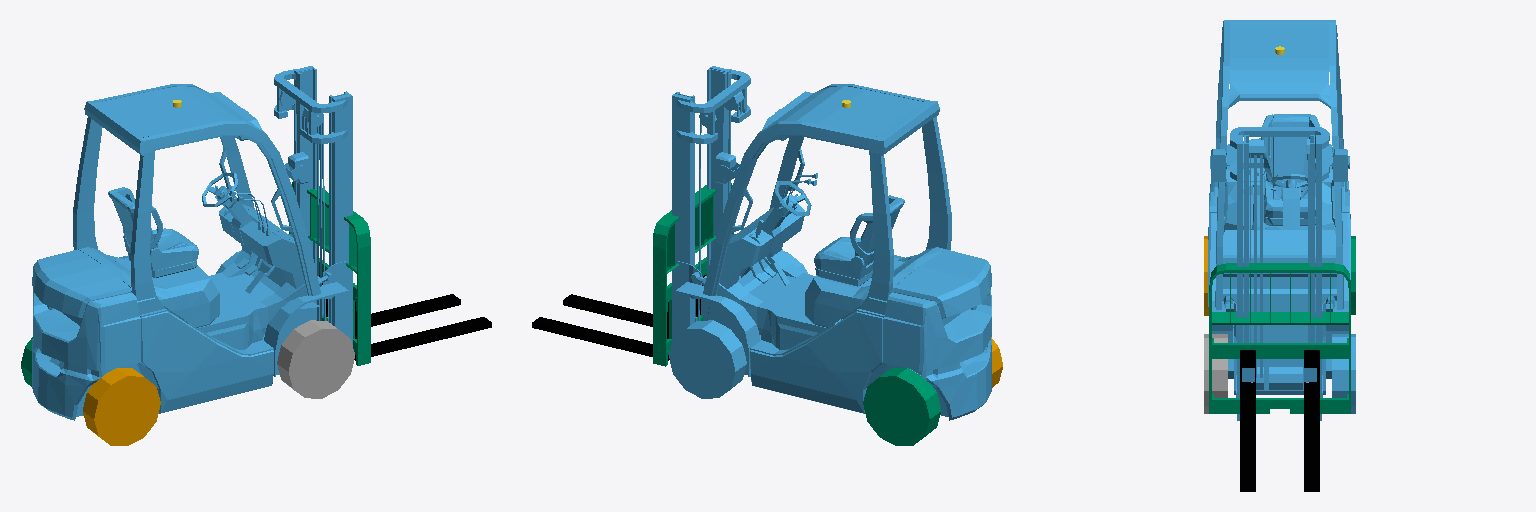
The robot description file, URDF, robot "forklift":
<?xml version="1.0" ?>
<!-- =================================================================================== -->
<!-- |    This document was autogenerated by xacro from robot.urdf.xacro               | -->
<!-- |    EDITING THIS FILE BY HAND IS NOT RECOMMENDED                                 | -->
<!-- =================================================================================== -->
<robot name="forklift">
  <!-- Specify some standard inertial calculations
    https://en.wikipedia.org/wiki/List_of_moments_of_inertia -->
  <!-- These make use of xacro's mathematical functionality -->
  <!-- Specify some standard inertial calculations
    https://en.wikipedia.org/wiki/List_of_moments_of_inertia -->
  <!-- These make use of xacro's mathematical functionality -->
  <material name="white">
    <color rgba="1 1 1 1"/>
  </material>
  <!-- BASE LINK -->
  <material name="darkgray">
    <color rgba="0.01 0.01 0.01 1"/>
  </material>
  <!--See: https://github.com/ros-navigation/navigation2_tutorials/blob/rolling/sam_bot_description/src/description/sam_bot_description.urdf -->
  <!--From nav2 docs: 
  "We will also be using the box_inertia macro we defined before to add some inertial properties 
  to our base_link. The kdl_parser package used in robot_state_publisher
  doesn’t like inertial properties being specified in the root link, 
  in this case the base_link, to combat this we will be including them in the base_footprint instead.
  Include the following code snippet within <link name="base_footprint"> tag of base_footprint in our URDF." 
  -->
  <link name="base_footprint">
    <inertial>
      <origin rpy="0 0 0" xyz="-0.1 0 0.6"/>
      <mass value="50"/>
      <inertia ixx="20.00427083333333" ixy="0.0" ixz="0.0" iyy="38.517083333333325" iyz="0.0" izz="25.188020833333333"/>
    </inertial>
  </link>
  <joint name="base_link_joint" type="fixed">
    <parent link="base_link"/>
    <child link="base_footprint"/>
    <!--Set the base_footprint down to wheel axis level + half the wheel radius to be exactly at the bottom-->
    <origin rpy="0 0 0" xyz="0 0 -0.6"/>
  </joint>
  <link name="base_link">
    <visual>
      <origin xyz="0 0 0"/>
      <geometry>
        <mesh filename="package://forklift_controller/models/forklift/meshes/body_correct_scale.dae"/>
      </geometry>
    </visual>
    <collision>
      <origin xyz="0 0 0"/>
      <geometry>
        <mesh filename="package://forklift_controller/models/forklift/meshes/body_correct_scale.dae"/>
      </geometry>
    </collision>
  </link>
  <link name="fork_plate">
    <visual>
      <origin rpy="0 0 0" xyz="0 0 0"/>
      <geometry>
        <mesh filename="package://forklift_controller/models/forklift/meshes/fork_plate_correct_scale.dae" scale="1 1 0.77"/>
      </geometry>
    </visual>
    <collision>
      <origin rpy="0 0 0" xyz="0 0 0"/>
      <geometry>
        <box size="0.1 0.885 1.29"/>
      </geometry>
    </collision>
    <inertial>
      <origin rpy="0 0 0" xyz="0 0 0"/>
      <mass value="50"/>
      <inertia ixx="10.1971875" ixy="0.0" ixz="0.0" iyy="6.975416666666666" iyz="0.0" izz="3.3051041666666663"/>
    </inertial>
  </link>
  <joint name="fork_plate_joint" type="prismatic">
    <parent link="base_link"/>
    <child link="fork_plate"/>
    <origin rpy="0 0 0" xyz="1.15 0 0.09"/>
    <axis xyz="0 0 1"/>
    <limit effort="2500" lower="0.0" upper="5.0" velocity="0.5"/>
  </joint>
  <!-- Specify some standard inertial calculations
    https://en.wikipedia.org/wiki/List_of_moments_of_inertia -->
  <!-- These make use of xacro's mathematical functionality -->
  <!--
    Dimensions are defined when viewing link from the front:
      height is up
      length is forward (towards you)
      width is sideways (left/right)
    -->
  <link name="fork_1_attach">
    <visual>
      <origin rpy="1.5707963267948966 1.5707963267948966 0" xyz="0 0 0"/>
      <geometry>
        <box size="0.5 0.025 0.1"/>
      </geometry>
      <material name="darkgray"/>
    </visual>
    <collision>
      <origin rpy="1.5707963267948966 1.5707963267948966 0" xyz="0 0 0"/>
      <geometry>
        <box size="0.5 0.025 0.1"/>
      </geometry>
    </collision>
    <inertial>
      <origin rpy="0 0 0" xyz="0 0 0"/>
      <mass value="7.5"/>
      <inertia ixx="0.0066406250000000016" ixy="0.0" ixz="0.0" iyy="0.1625" iyz="0.0" izz="0.15664062499999998"/>
    </inertial>
  </link>
  <link name="fork_1">
    <visual>
      <origin rpy="0 0 0" xyz="0 0 0"/>
      <geometry>
        <box size="1.0 0.1 0.04"/>
      </geometry>
      <material name="darkgray"/>
    </visual>
    <collision>
      <origin rpy="0 0 0" xyz="0 0 0"/>
      <geometry>
        <box size="1.0 0.1 0.04"/>
      </geometry>
    </collision>
    <inertial>
      <origin rpy="0 0 0" xyz="0 0 0"/>
      <mass value="7.5"/>
      <inertia ixx="0.007250000000000001" ixy="0.0" ixz="0.0" iyy="0.626" iyz="0.0" izz="0.63125"/>
    </inertial>
  </link>
  <joint name="fork_attach_1_joint" type="fixed">
    <parent link="fork_plate"/>
    <child link="fork_1_attach"/>
    <origin rpy="0 0 0" xyz="0.05 0.2 -0.35"/>
  </joint>
  <joint name="fork_1_joint" type="fixed">
    <parent link="fork_1_attach"/>
    <child link="fork_1"/>
    <origin rpy="0 0 0" xyz="0.5 0 -0.23"/>
  </joint>
  <!-- https://osrf-migration.github.io/sdformat-gh-pages/#!/osrf/sdformat/issues/131/page/1-->
  <!--
    <gazebo reference="fork_{id}_joint">
        <disableFixedJointLumping>true</disableFixedJointLumping>
    </gazebo>

    <gazebo reference="fork_attach_${id}_joint">
        <disableFixedJointLumping>true</disableFixedJointLumping>
    </gazebo>
    -->
  <!-- Specify some standard inertial calculations
    https://en.wikipedia.org/wiki/List_of_moments_of_inertia -->
  <!-- These make use of xacro's mathematical functionality -->
  <!--
    Dimensions are defined when viewing link from the front:
      height is up
      length is forward (towards you)
      width is sideways (left/right)
    -->
  <link name="fork_2_attach">
    <visual>
      <origin rpy="1.5707963267948966 1.5707963267948966 0" xyz="0 0 0"/>
      <geometry>
        <box size="0.5 0.025 0.1"/>
      </geometry>
      <material name="darkgray"/>
    </visual>
    <collision>
      <origin rpy="1.5707963267948966 1.5707963267948966 0" xyz="0 0 0"/>
      <geometry>
        <box size="0.5 0.025 0.1"/>
      </geometry>
    </collision>
    <inertial>
      <origin rpy="0 0 0" xyz="0 0 0"/>
      <mass value="7.5"/>
      <inertia ixx="0.0066406250000000016" ixy="0.0" ixz="0.0" iyy="0.1625" iyz="0.0" izz="0.15664062499999998"/>
    </inertial>
  </link>
  <link name="fork_2">
    <visual>
      <origin rpy="0 0 0" xyz="0 0 0"/>
      <geometry>
        <box size="1.0 0.1 0.04"/>
      </geometry>
      <material name="darkgray"/>
    </visual>
    <collision>
      <origin rpy="0 0 0" xyz="0 0 0"/>
      <geometry>
        <box size="1.0 0.1 0.04"/>
      </geometry>
    </collision>
    <inertial>
      <origin rpy="0 0 0" xyz="0 0 0"/>
      <mass value="7.5"/>
      <inertia ixx="0.007250000000000001" ixy="0.0" ixz="0.0" iyy="0.626" iyz="0.0" izz="0.63125"/>
    </inertial>
  </link>
  <joint name="fork_attach_2_joint" type="fixed">
    <parent link="fork_plate"/>
    <child link="fork_2_attach"/>
    <origin rpy="0 0 0" xyz="0.05 -0.2 -0.35"/>
  </joint>
  <joint name="fork_2_joint" type="fixed">
    <parent link="fork_2_attach"/>
    <child link="fork_2"/>
    <origin rpy="0 0 0" xyz="0.5 0 -0.23"/>
  </joint>
  <!-- https://osrf-migration.github.io/sdformat-gh-pages/#!/osrf/sdformat/issues/131/page/1-->
  <!--
    <gazebo reference="fork_{id}_joint">
        <disableFixedJointLumping>true</disableFixedJointLumping>
    </gazebo>

    <gazebo reference="fork_attach_${id}_joint">
        <disableFixedJointLumping>true</disableFixedJointLumping>
    </gazebo>
    -->
  <joint name="right_wheel_joint" type="continuous">
    <parent link="base_link"/>
    <child link="right_wheel"/>
    <origin rpy="1.5707963267948966 0 0" xyz="0.8 -0.4 -0.35"/>
    <axis xyz="0 0 -1"/>
  </joint>
  <link name="right_wheel">
    <visual>
      <origin rpy="1.5707963267948966 0 0" xyz="0 0 0"/>
      <geometry>
        <!--The
        package resolves into install/forklift_controller/share/forklift_controller/-->
        <mesh filename="package://forklift_controller/models/forklift/meshes/wheel_correct_scale.dae"/>
      </geometry>
    </visual>
    <collision>
      <origin rpy="0 0 0" xyz="0 0 0"/>
      <geometry>
        <cylinder length="0.15" radius="0.25"/>
      </geometry>
    </collision>
    <inertial>
      <origin rpy="0 0 0" xyz="0 0 0"/>
      <mass value="5"/>
      <inertia ixx="0.0875" ixy="0.0" ixz="0.0" iyy="0.0875" iyz="0.0" izz="0.15625"/>
    </inertial>
  </link>
  <joint name="right_wheel_back_joint" type="continuous">
    <parent link="base_link"/>
    <child link="right_wheel_back"/>
    <origin rpy="1.5707963267948966 0 0" xyz="-0.65 -0.4 -0.35"/>
    <axis xyz="0 0 -1"/>
  </joint>
  <link name="right_wheel_back">
    <visual>
      <origin rpy="1.5707963267948966 0 0" xyz="0 0 0"/>
      <geometry>
        <!--The
        package resolves into install/forklift_controller/share/forklift_controller/-->
        <mesh filename="package://forklift_controller/models/forklift/meshes/wheel_correct_scale.dae"/>
      </geometry>
    </visual>
    <collision>
      <origin rpy="0 0 0" xyz="0 0 0"/>
      <geometry>
        <cylinder length="0.15" radius="0.25"/>
      </geometry>
    </collision>
    <inertial>
      <origin rpy="0 0 0" xyz="0 0 0"/>
      <mass value="5"/>
      <inertia ixx="0.0875" ixy="0.0" ixz="0.0" iyy="0.0875" iyz="0.0" izz="0.15625"/>
    </inertial>
  </link>
  <joint name="left_wheel_joint" type="continuous">
    <parent link="base_link"/>
    <child link="left_wheel"/>
    <origin rpy="1.5707963267948966 0 0" xyz="0.8 0.4 -0.35"/>
    <axis xyz="0 0 -1"/>
  </joint>
  <link name="left_wheel">
    <visual>
      <origin rpy="-1.5707963267948966 0 0" xyz="0 0 0"/>
      <geometry>
        <!--The
        package resolves into install/forklift_controller/share/forklift_controller/-->
        <mesh filename="package://forklift_controller/models/forklift/meshes/wheel_correct_scale.dae"/>
      </geometry>
    </visual>
    <collision>
      <origin rpy="0 0 0" xyz="0 0 0"/>
      <geometry>
        <cylinder length="0.15" radius="0.25"/>
      </geometry>
    </collision>
    <inertial>
      <origin rpy="0 0 0" xyz="0 0 0"/>
      <mass value="5"/>
      <inertia ixx="0.0875" ixy="0.0" ixz="0.0" iyy="0.0875" iyz="0.0" izz="0.15625"/>
    </inertial>
  </link>
  <joint name="left_wheel_back_joint" type="continuous">
    <parent link="base_link"/>
    <child link="left_wheel_back"/>
    <origin rpy="1.5707963267948966 0 0" xyz="-0.65 0.4 -0.35"/>
    <axis xyz="0 0 -1"/>
  </joint>
  <link name="left_wheel_back">
    <visual>
      <origin rpy="-1.5707963267948966 0 0" xyz="0 0 0"/>
      <geometry>
        <!--The
        package resolves into install/forklift_controller/share/forklift_controller/-->
        <mesh filename="package://forklift_controller/models/forklift/meshes/wheel_correct_scale.dae"/>
      </geometry>
    </visual>
    <collision>
      <origin rpy="0 0 0" xyz="0 0 0"/>
      <geometry>
        <cylinder length="0.15" radius="0.25"/>
      </geometry>
    </collision>
    <inertial>
      <origin rpy="0 0 0" xyz="0 0 0"/>
      <mass value="5"/>
      <inertia ixx="0.0875" ixy="0.0" ixz="0.0" iyy="0.0875" iyz="0.0" izz="0.15625"/>
    </inertial>
  </link>
  <gazebo>
    <!--
    <plugin filename="gz-sim-touchplugin-system"
      name="gz::sim::systems::TouchPlugin">
      <target>cube</target>
      <time>0.001</time>
      <enabled>true</enabled>
     <namespace>$(arg namespace)</namespace> 
    </plugin>
  -->
  </gazebo>
  <gazebo reference="fork_plate">
    <sensor name="sensor_contact" type="contact">
      <contact>
        <collision>fork_plate_fixed_joint_lump__fork_1_collision_1</collision>
      </contact>
    </sensor>
  </gazebo>
  <link name="rplidar_link">
    <visual>
      <origin rpy="0 0 0" xyz="0 0 0"/>
      <geometry>
        <cylinder length="0.03" radius="0.03"/>
      </geometry>
    </visual>
    <collision>
      <origin rpy="0 0 0" xyz="0 0 0"/>
      <geometry>
        <cylinder length="0.03" radius="0.03"/>
      </geometry>
    </collision>
    <inertial>
      <origin rpy="0 0 0" xyz="0 0 0"/>
      <mass value="0.1"/>
      <inertia ixx="2.9999999999999997e-05" ixy="0.0" ixz="0.0" iyy="2.9999999999999997e-05" iyz="0.0" izz="4.5e-05"/>
    </inertial>
  </link>
  <joint name="rplidar_joint" type="fixed">
    <parent link="base_link"/>
    <child link="rplidar_link"/>
    <origin rpy="0 0 0" xyz="0 0 1.5"/>
  </joint>
  <gazebo reference="rplidar_link">
    <sensor name="rplidar" type="gpu_lidar">
      <update_rate>10.0</update_rate>
      <visualize>true</visualize>
      <always_on>true</always_on>
      <gz_frame_id>rplidar_link</gz_frame_id>
      <topic>/scan</topic>
      <lidar>
        <scan>
          <horizontal>
            <samples>360</samples>
            <resolution>1.0</resolution>
            <min_angle>0.000</min_angle>
            <max_angle>6.280000</max_angle>
          </horizontal>
        </scan>
        <range>
          <min>0.164</min>
          <max>20.0</max>
          <resolution>0.01</resolution>
        </range>
      </lidar>
    </sensor>
  </gazebo>
  <gazebo reference="rplidar_joint">
    <preserveFixedJoint>true</preserveFixedJoint>
  </gazebo>
  <!--https://medium.com/@alitekes1/gazebo-sim-plugin-and-sensors-for-acquire-data-from-simulation-environment-681d8e2ad853-->
  <!--
  <gazebo reference="fork_plate_joint">
    <disableFixedJointLumping>true</disableFixedJointLumping>
  </gazebo>
  -->
  <gazebo>
    <plugin filename="gz-sim-diff-drive-system" name="gz::sim::systems::DiffDrive">
      <left_joint>left_wheel_joint</left_joint>
      <left_joint>left_wheel_back_joint</left_joint>
      <right_joint>right_wheel_joint</right_joint>
      <right_joint>right_wheel_back_joint</right_joint>
      <wheel_separation>0.890</wheel_separation>
      <wheel_radius>0.25</wheel_radius>
      <odom_publish_frequency>30</odom_publish_frequency>
      <odom_topic>/odom</odom_topic>
      <frame_id>odom</frame_id>
      <tf_topic>/tf</tf_topic>
      <topic>/cmd_vel</topic>
      <child_frame_id>base_link</child_frame_id>
      <max_linear_acceleration>10</max_linear_acceleration>
      <min_linear_acceleration>-10</min_linear_acceleration>
      <max_angular_acceleration>20</max_angular_acceleration>
      <min_angular_acceleration>-20</min_angular_acceleration>
      <max_linear_velocity>6</max_linear_velocity>
      <min_linear_velocity>-0.5</min_linear_velocity>
      <max_angular_velocity>10</max_angular_velocity>
      <min_angular_velocity>-10</min_angular_velocity>
    </plugin>
    <plugin filename="gz-sim-joint-state-publisher-system" name="gz::sim::systems::JointStatePublisher">
      <!--
      <joint_name>left_wheel_joint</joint_name>
      <joint_name>right_wheel_joint</joint_name>
      <joint_name>left_wheel_back_joint</joint_name>
      <joint_name>right_wheel_back_joint</joint_name>
      <joint_name>fork_attach_1_joint</joint_name>
      <joint_name>fork_attach_2_joint</joint_name>
      <joint_name>fork_1_joint</joint_name>
      <joint_name>fork_2_joint</joint_name>
      <joint_name>fork_plate</joint_name>
      -->
      <topic>/joint_states</topic>
    </plugin>
    <plugin filename="gz-sim-joint-position-controller-system" name="gz::sim::systems::JointPositionController">
      <joint_name>fork_plate_joint</joint_name>
      <initial_position>0.0</initial_position>
      <topic>/fork_control</topic>
      <p_gain>4000000</p_gain>
      <i_gain>2000</i_gain>
      <d_gain>5000</d_gain>
      <i_min>-2000</i_min>
      <i_max>2000</i_max>
      <cmd_min>-80000</cmd_min>
      <cmd_max>120000</cmd_max>
    </plugin>
  </gazebo>
</robot>

--- Render facts (derived) ---
The picture shows the robot from 3 angles, left to right: view 1: azimuth 30°, elevation 25°; view 2: azimuth 150°, elevation 25°; view 3: azimuth 270°, elevation 25°; orthographic projection.
Robot: forklift — 12 links, 11 joints (4 continuous, 1 prismatic, 6 fixed); root link base_link; default pose: all joints at 0.
Visible links, largest first — view 1: base_link, right_wheel, right_wheel_back, fork_plate, fork_2, fork_1; view 2: base_link, left_wheel, left_wheel_back, fork_plate, fork_1, fork_2; view 3: base_link, fork_plate, left_wheel, fork_1, fork_2, right_wheel, fork_2_attach, fork_1_attach.
Link boxes in pixels (left/top/right/bottom): base_link: left=32, top=66, right=352, bottom=420; right_wheel: left=277, top=320, right=354, bottom=398; right_wheel_back: left=83, top=368, right=160, bottom=445; fork_plate: left=289, top=181, right=370, bottom=365; fork_2: left=371, top=317, right=491, bottom=356; fork_1: left=371, top=294, right=460, bottom=326; base_link: left=672, top=66, right=991, bottom=420; left_wheel: left=669, top=320, right=746, bottom=398; left_wheel_back: left=863, top=368, right=940, bottom=445; fork_plate: left=653, top=183, right=733, bottom=366; fork_1: left=532, top=317, right=652, bottom=356; fork_2: left=563, top=294, right=652, bottom=326; base_link: left=1208, top=20, right=1350, bottom=420; fork_plate: left=1209, top=263, right=1350, bottom=413; left_wheel: left=1332, top=334, right=1355, bottom=413; fork_1: left=1304, top=419, right=1319, bottom=491; fork_2: left=1240, top=419, right=1255, bottom=491; right_wheel: left=1204, top=334, right=1227, bottom=413; fork_2_attach: left=1240, top=350, right=1255, bottom=418; fork_1_attach: left=1304, top=350, right=1319, bottom=418.
Bounding box of the posed robot: 3.21 × 0.9507 × 2.12 m (x, y, z).
6 mesh visuals loaded from 3 distinct referenced files (3 Collada DAE).
